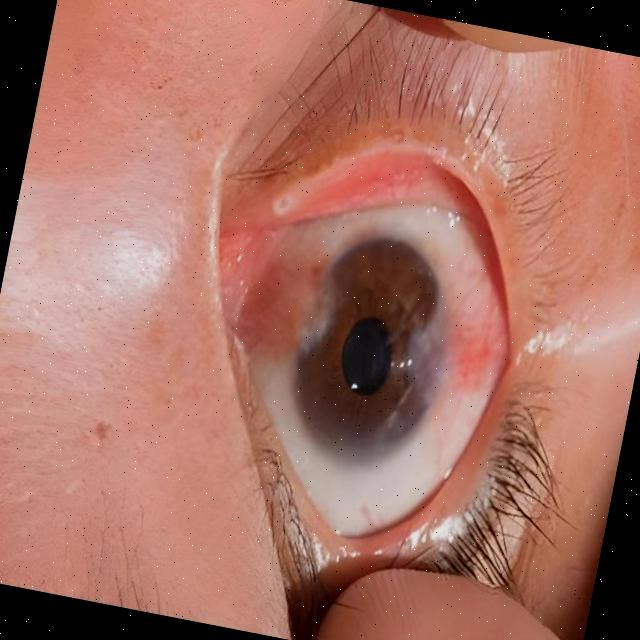Pterygium: (384, 228, 561, 468), (196, 212, 356, 394)
